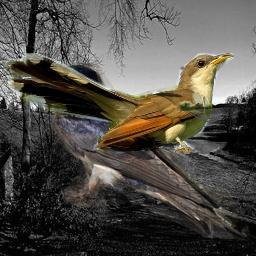Cuckoo: (6, 53, 234, 154)
Swallow: (42, 63, 252, 244)
